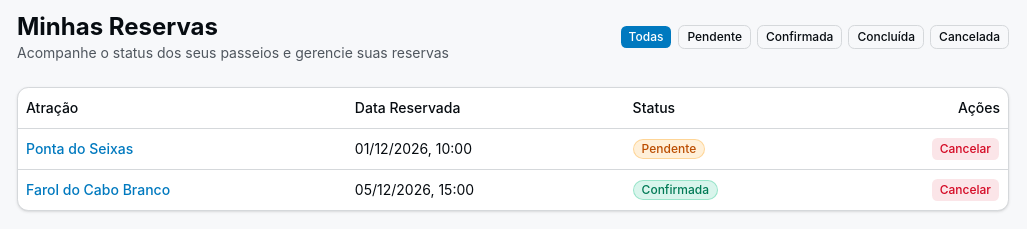
Test: MyReservations Page › filters reservations when status filter button is clicked
Expected: the link "Ponta do Seixas" is shown, [26,140,133,156]
Expected: the link "Farol do Cabo Branco" is shown, [26,180,170,198]
Note: Click filter 'Pendente'
Step 1. Click the button "Pendente" → (715, 37), box [678,25,751,49]
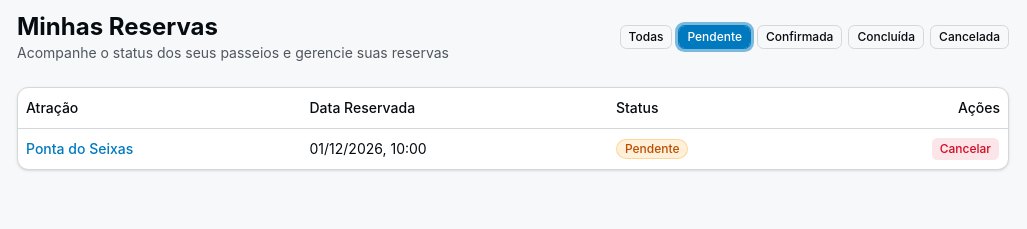
Expected: the link "Ponta do Seixas" is shown, [26,140,133,156]
Now the link "Farol do Cabo Branco" is gone
